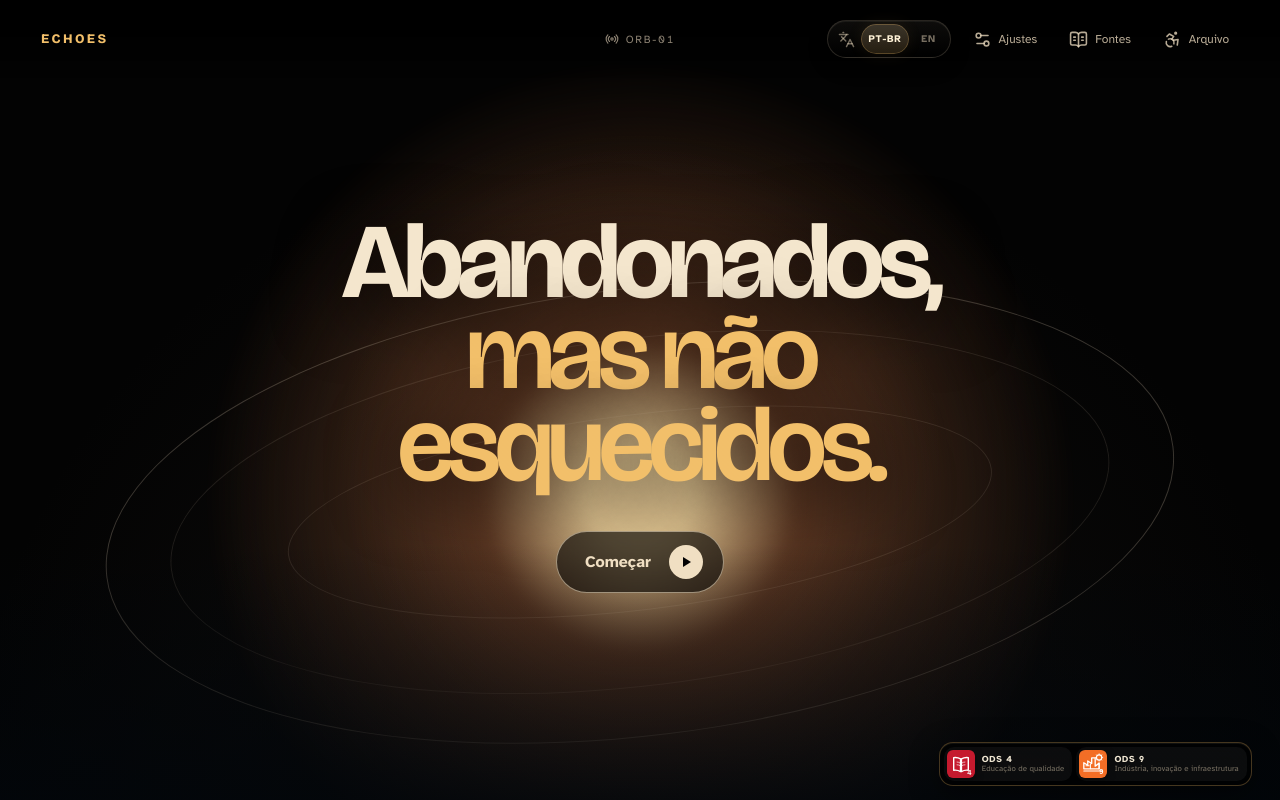
Test case: application routes › switches the interface to English and persists the choice
Later steps or results of the test are not shown.
Expected: the element named "Selecionar idioma" is shown, [828, 20, 951, 58]
Click the button with aria-label "Idioma: EN". click: (929, 39)
box: [911, 24, 947, 54]
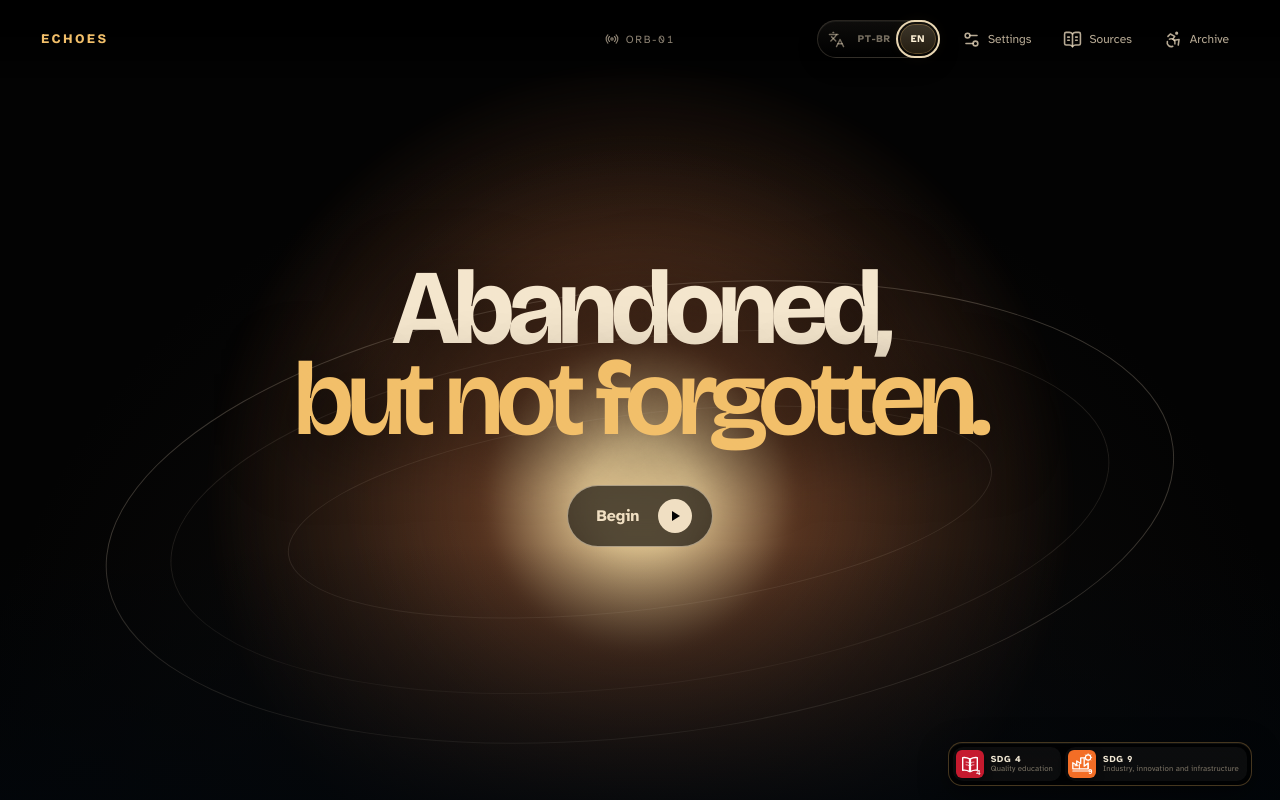
Now the element named "Select language" is shown, box [817, 20, 940, 58]
